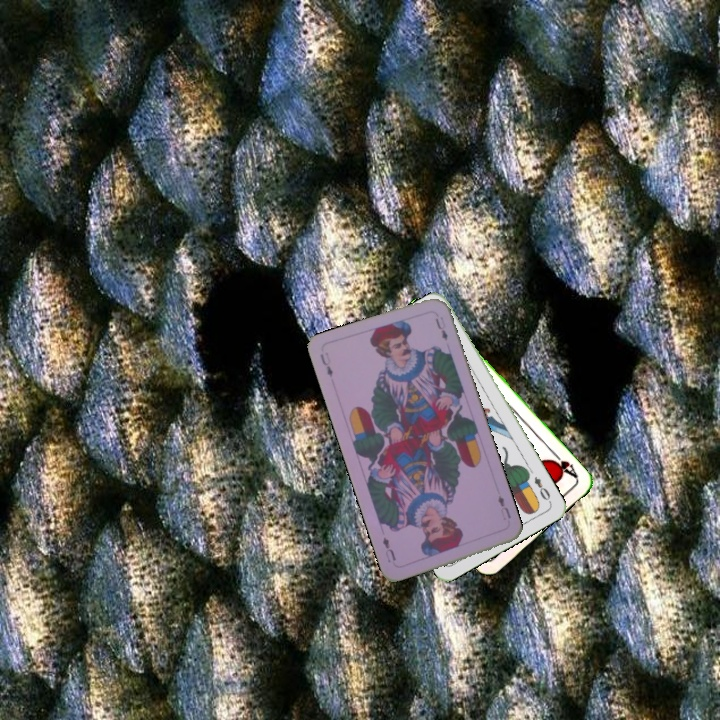EO: (530, 472, 554, 506)
EU: (493, 491, 514, 523), (316, 348, 335, 380)
HA: (545, 448, 581, 481)
